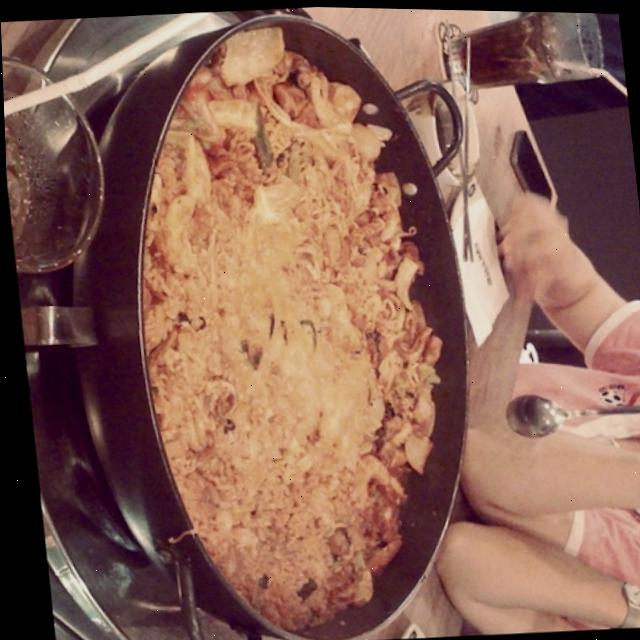鸡肉料理 含炸鸡: (50, 1, 585, 640)
